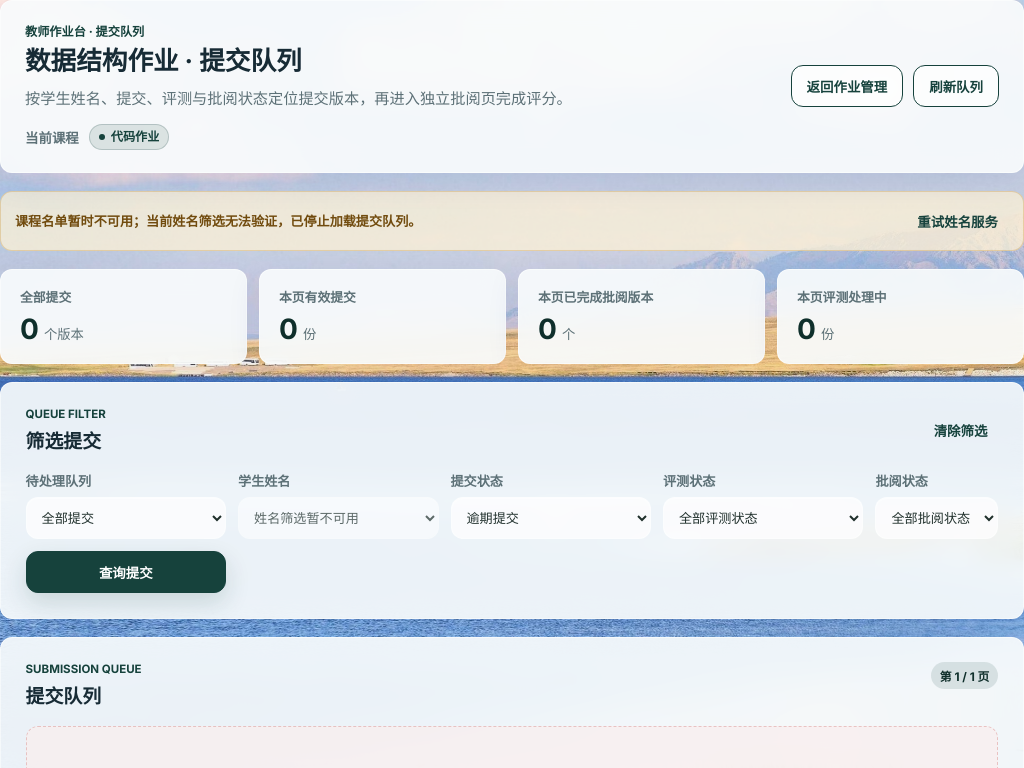
it: HomeworkSubmissionWorkspaceView › blocks an unresolved name filter when the roster fails, then restores it safely after retry
This screenshot has width=1024, height=768.
expect the message with test id "student-name-warning" shows "课程名单暂时不可用": met, box [15,213,421,229]
expect the message with test id "student-name-warning" shows "姓名筛选": met, box [15,213,421,229]
Select "待批阅" in the dropdown named "reviewStatus" at x=937, y=518, box [875,497,998,539]
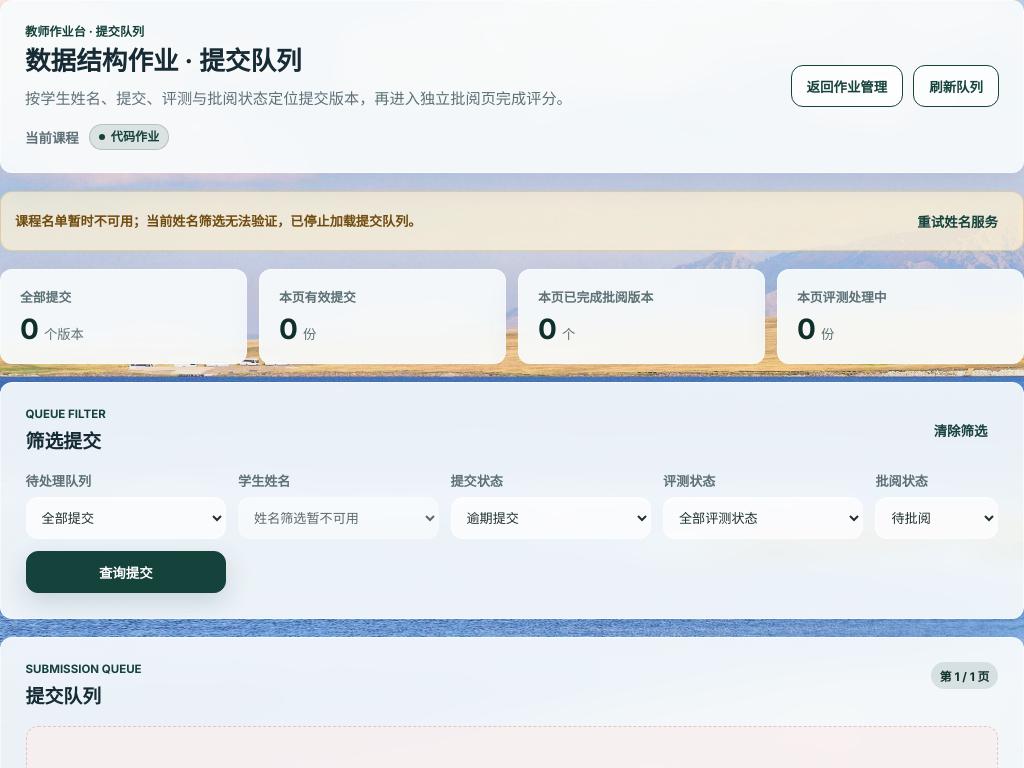
Submit the form, box [26,471,998,593]
Click the button "重试姓名服务".
click(958, 221)  # box [906,203,1009,239]
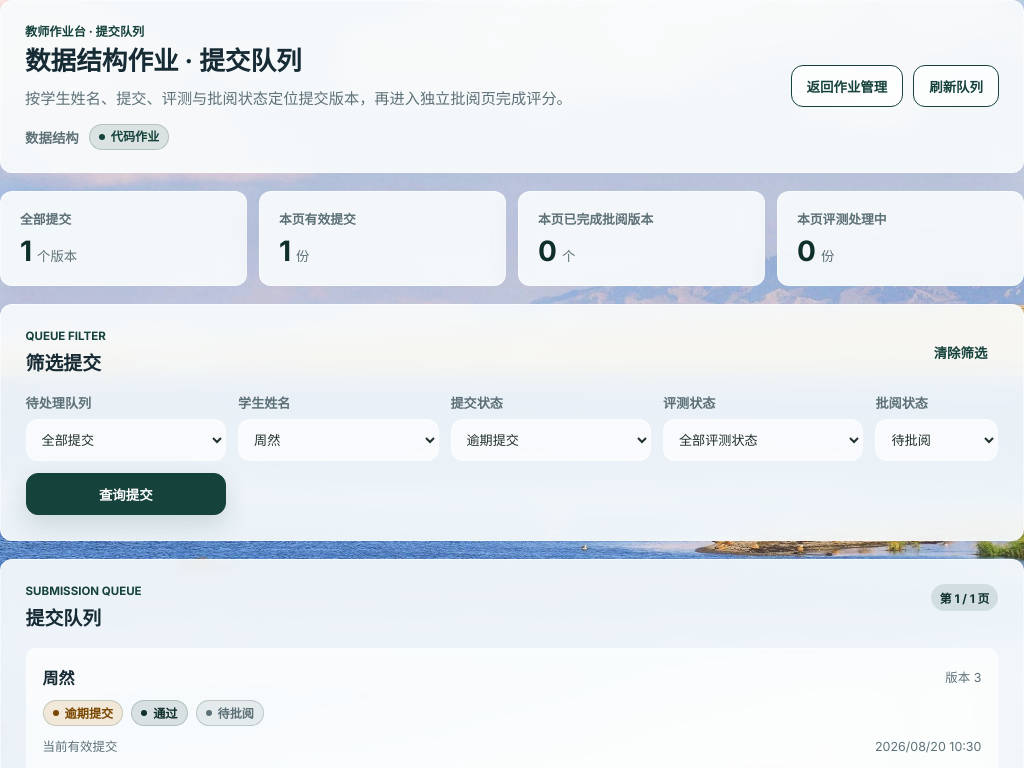
expect the dropdown named "studentName" is enabled: met, box [238,419,438,461]
